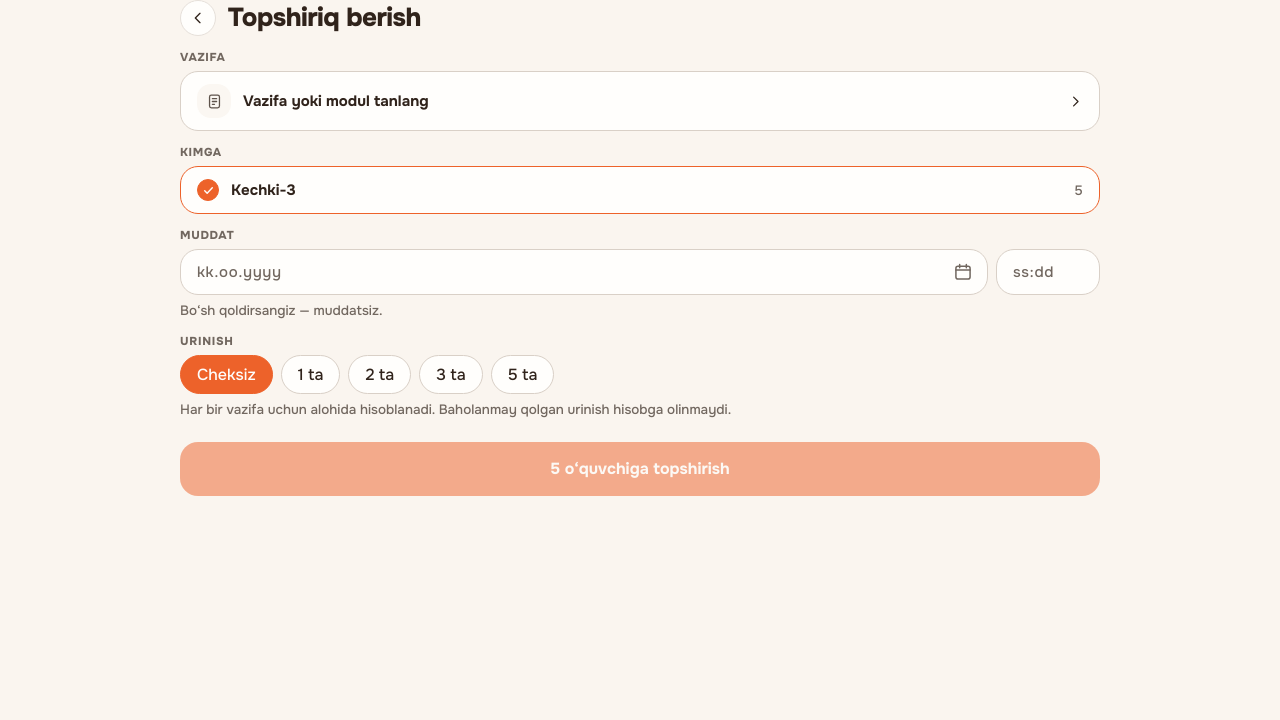
Test case: a module with nothing to send › is listed disabled with its reason, and cannot be picked
Click the button "Vazifa yoki modul tanlang" at (214, 101), box [180,71,1100,131]
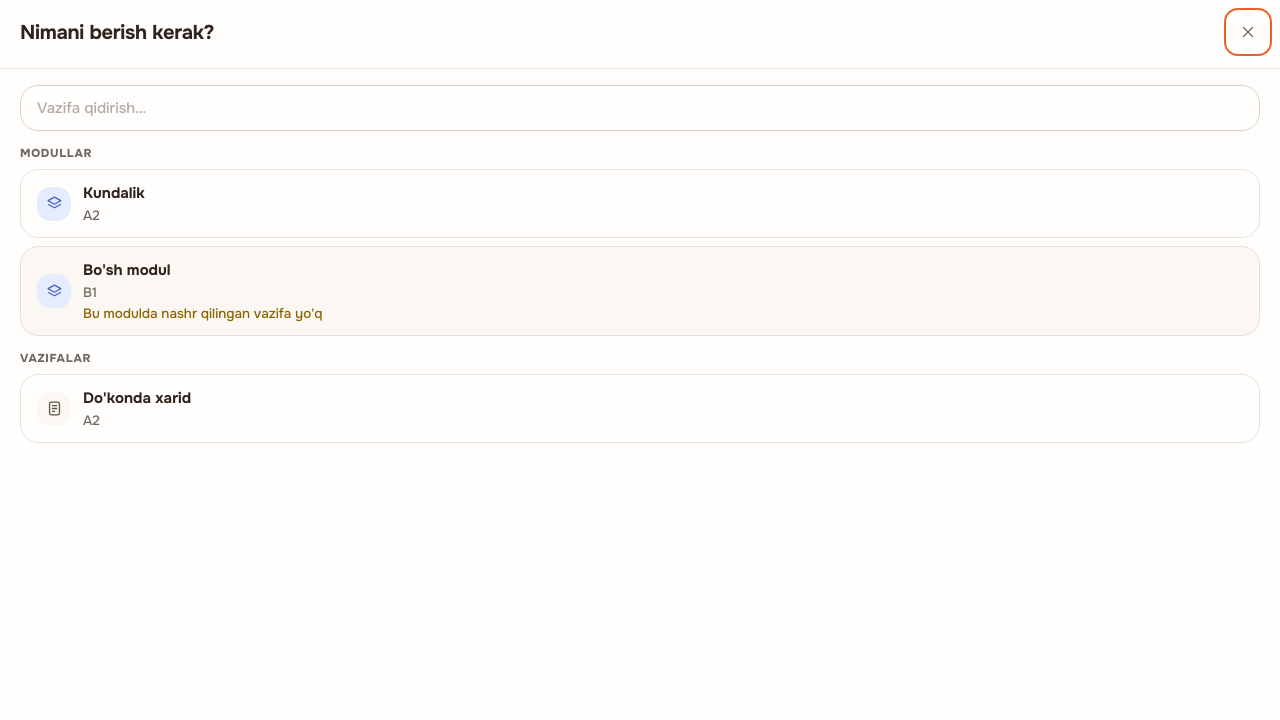
Expected: the button "Bo'sh modul B1 Bu modulda nashr qilingan vazifa yo'q" is disabled, [20,246,1260,336]
Expected: the text "Bu modulda nashr qilingan vazifa yo'q" is shown, [83,305,323,322]
